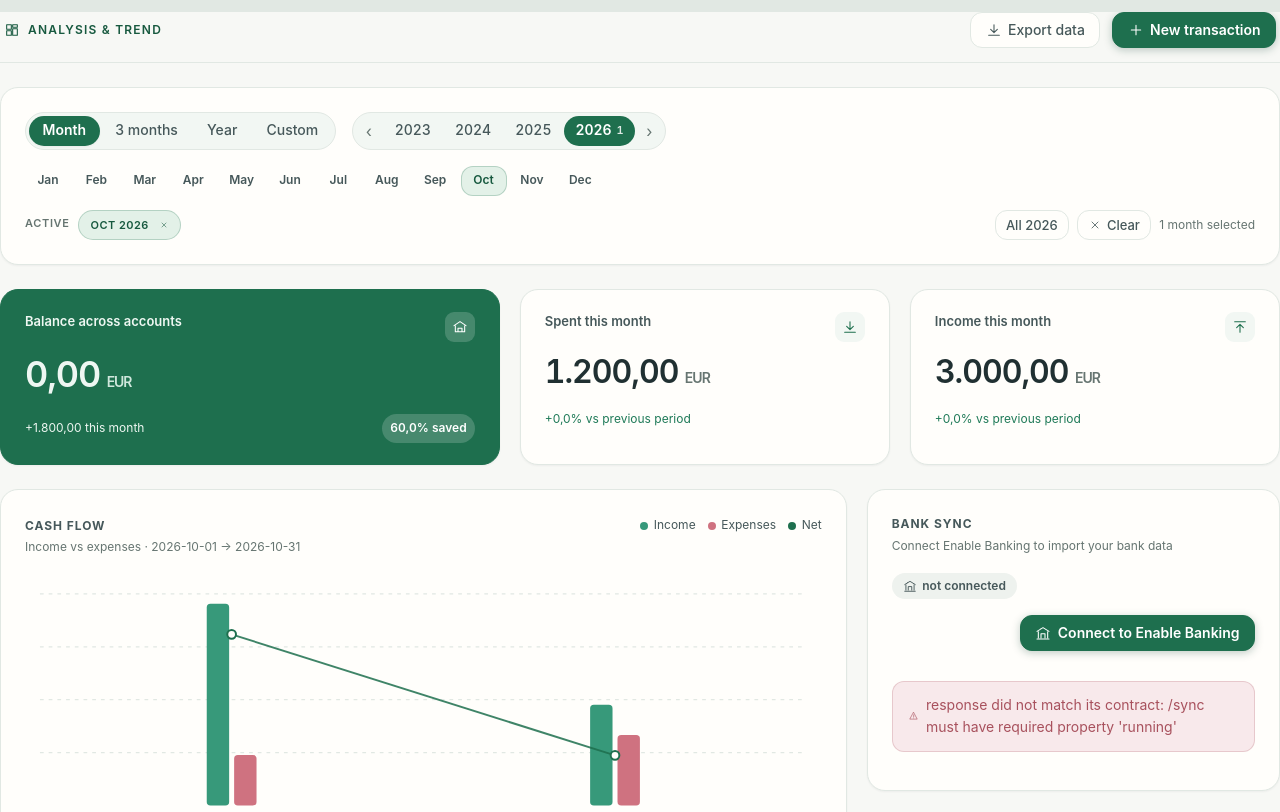
Test: dashboard charts › reads a week out of the cash-flow chart, and walks it with the arrows
Focus the button named "Week 1 (2026-09-01 to 2026-09-07)" at (232, 703), box [40,594,423,811]
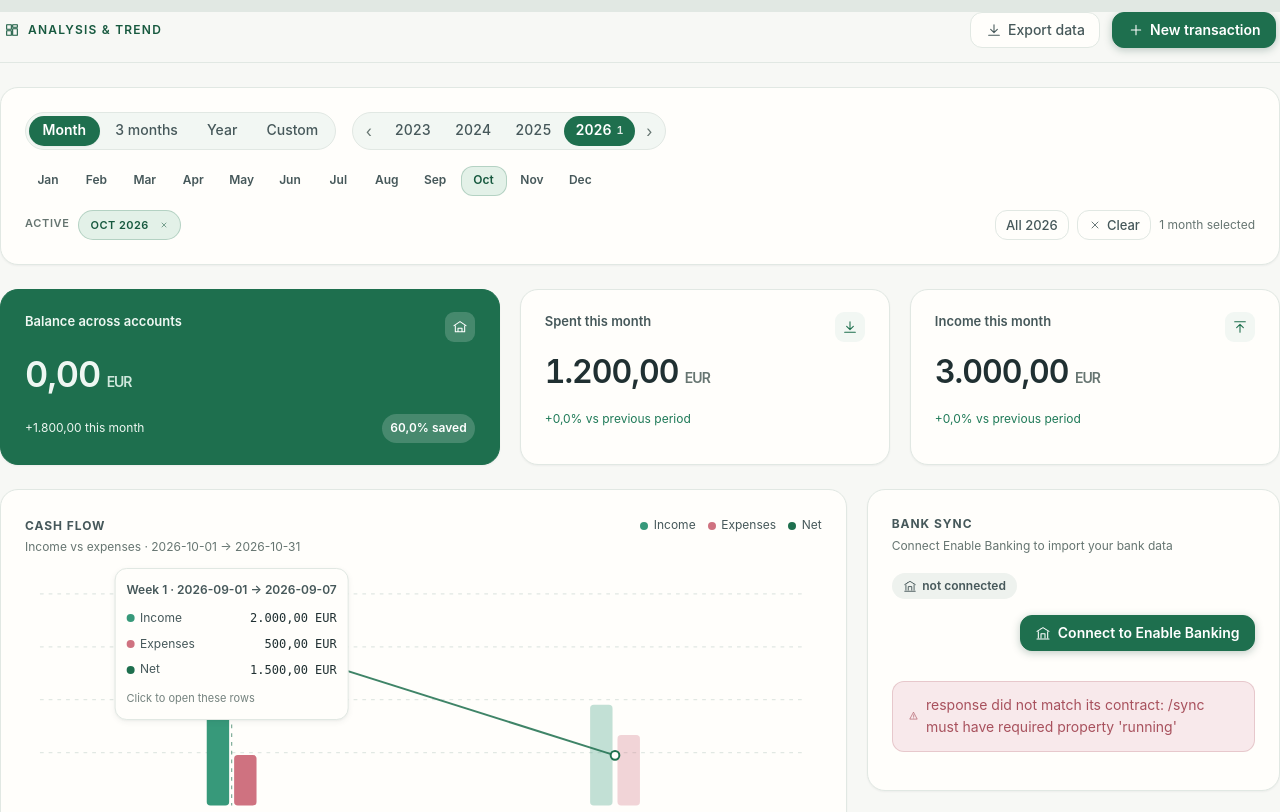
Now the text "Week 1 · 2026-09-01 → 2026-09-07" is shown, box [126,579,337,601]
Now the text "1.500,00 EUR" is shown, box [250,659,337,681]
// Arrow keys move the readout instead of adding a tab stop per week.
Press ArrowRight in the button named "Week 1 (2026-09-01 to 2026-09-07)", box [40,594,423,811]
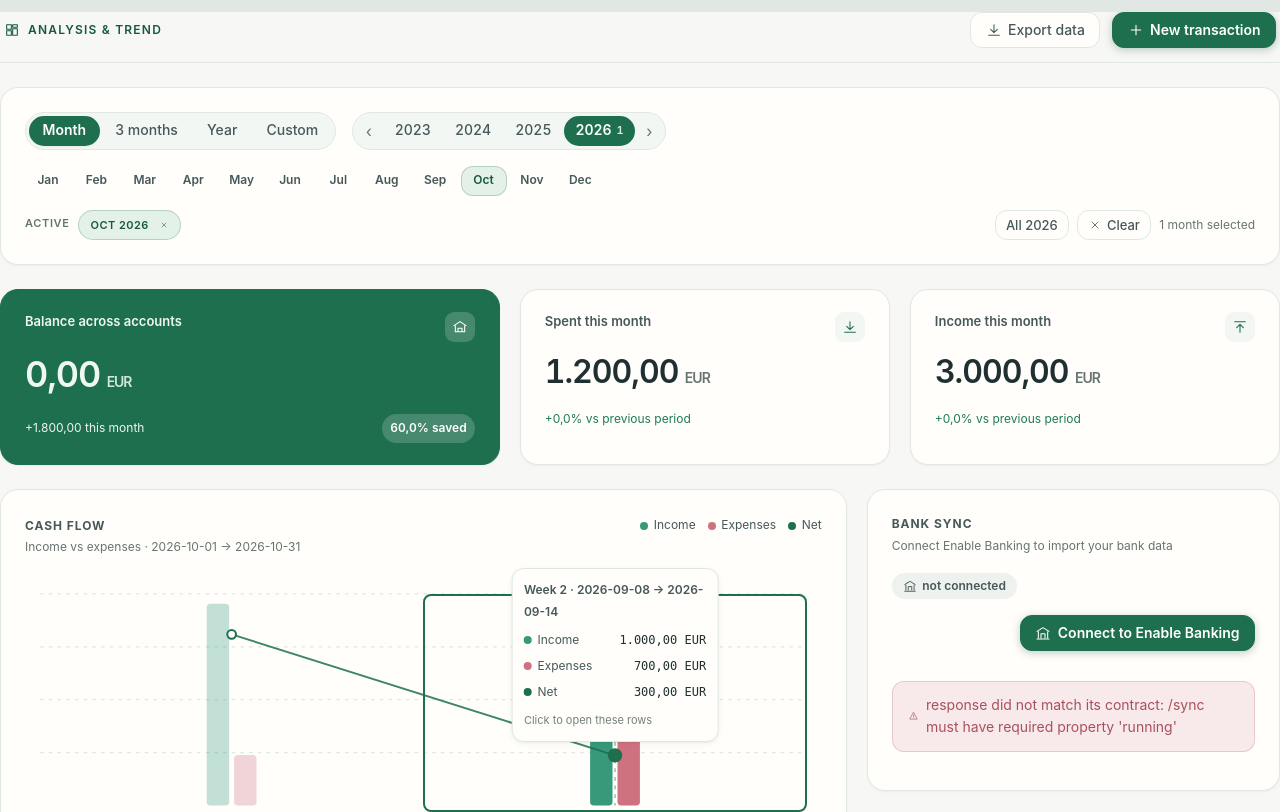
Now the text "Week 2 · 2026-09-08 → 2026-09-14" is shown, box [524,579,706,624]
Now the text "300,00 EUR" is shown, box [634,681,706,703]
